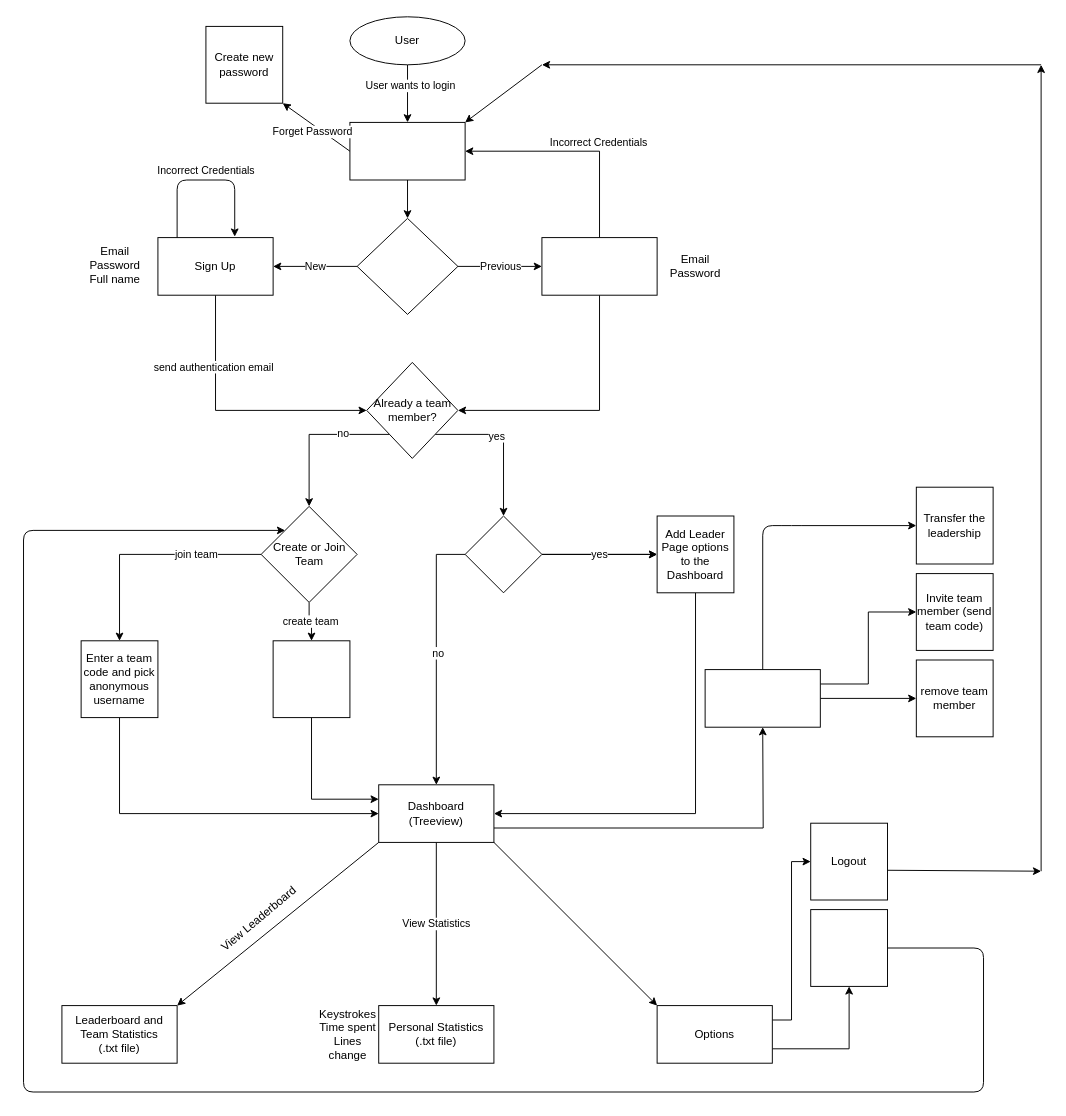
The diagram is 1066 pixels wide and 1116 high, and some of its shapes have lost their labels. Each missing label, with the box of its shape:
enter a team name and p ick anonymous username: (272, 640, 350, 718)
Leader page (can view entire team info, real names with scores): (704, 669, 820, 727)
Leader?: (464, 515, 542, 593)
Leave team: (810, 909, 888, 986)
Log In: (541, 237, 657, 295)
Login Page: (349, 121, 465, 180)
Previous or New User?: (356, 217, 458, 314)
